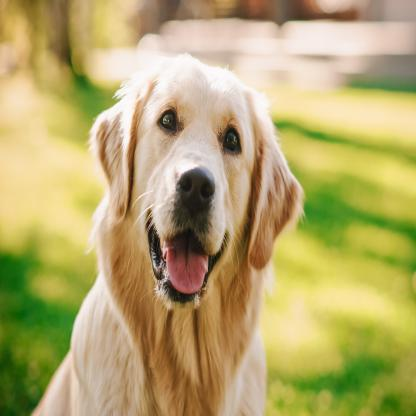dog: (34, 59, 306, 416)
